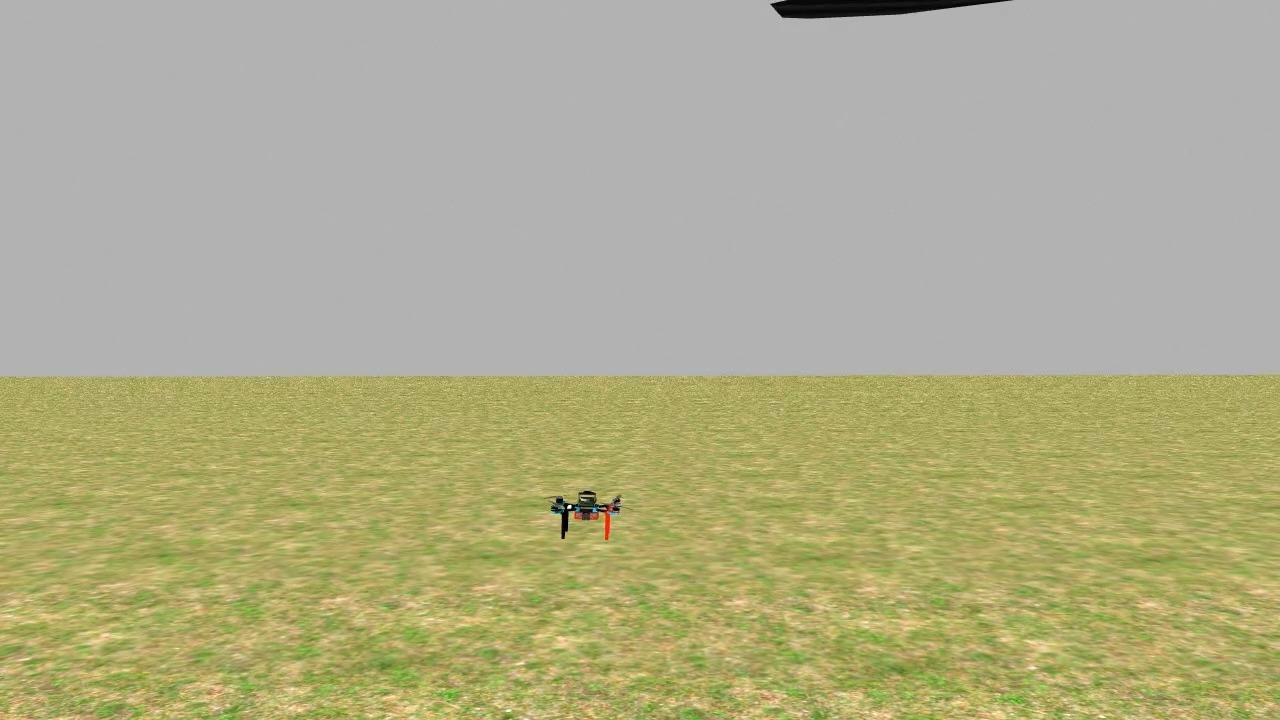UAV: (534, 484, 636, 559)
